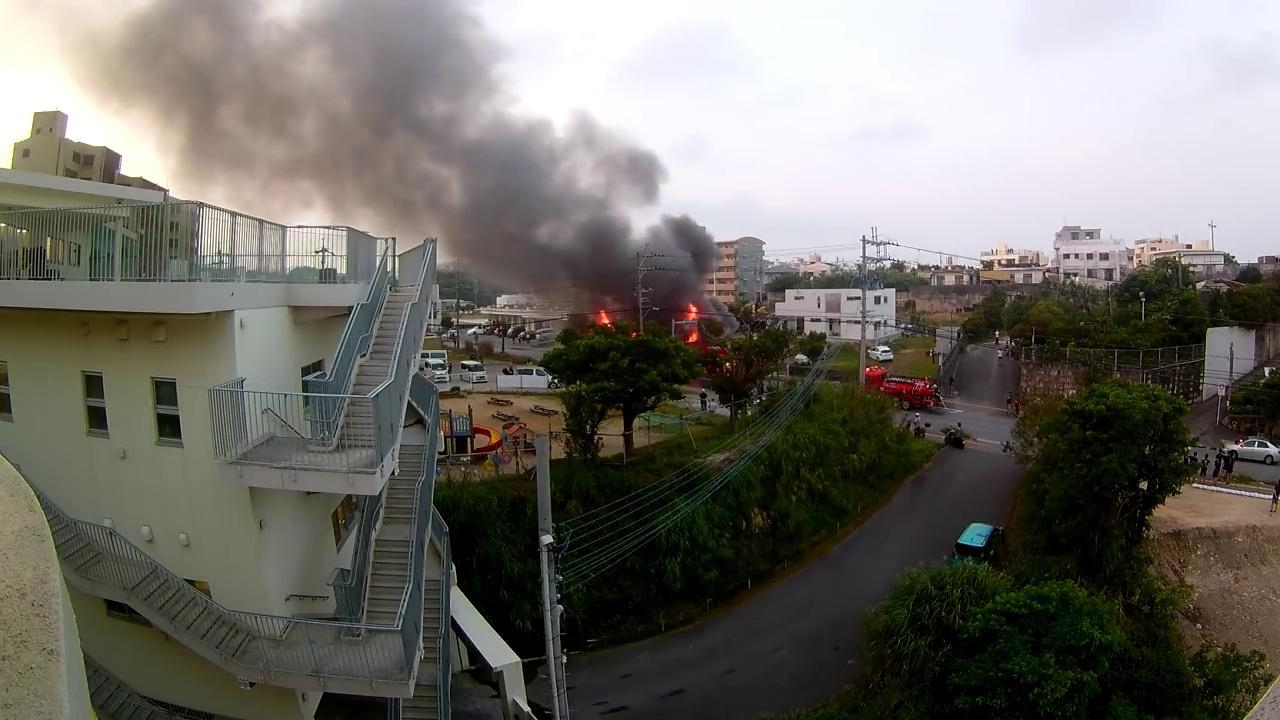Fire: (682, 300, 703, 323), (685, 329, 702, 345), (600, 312, 614, 327)
